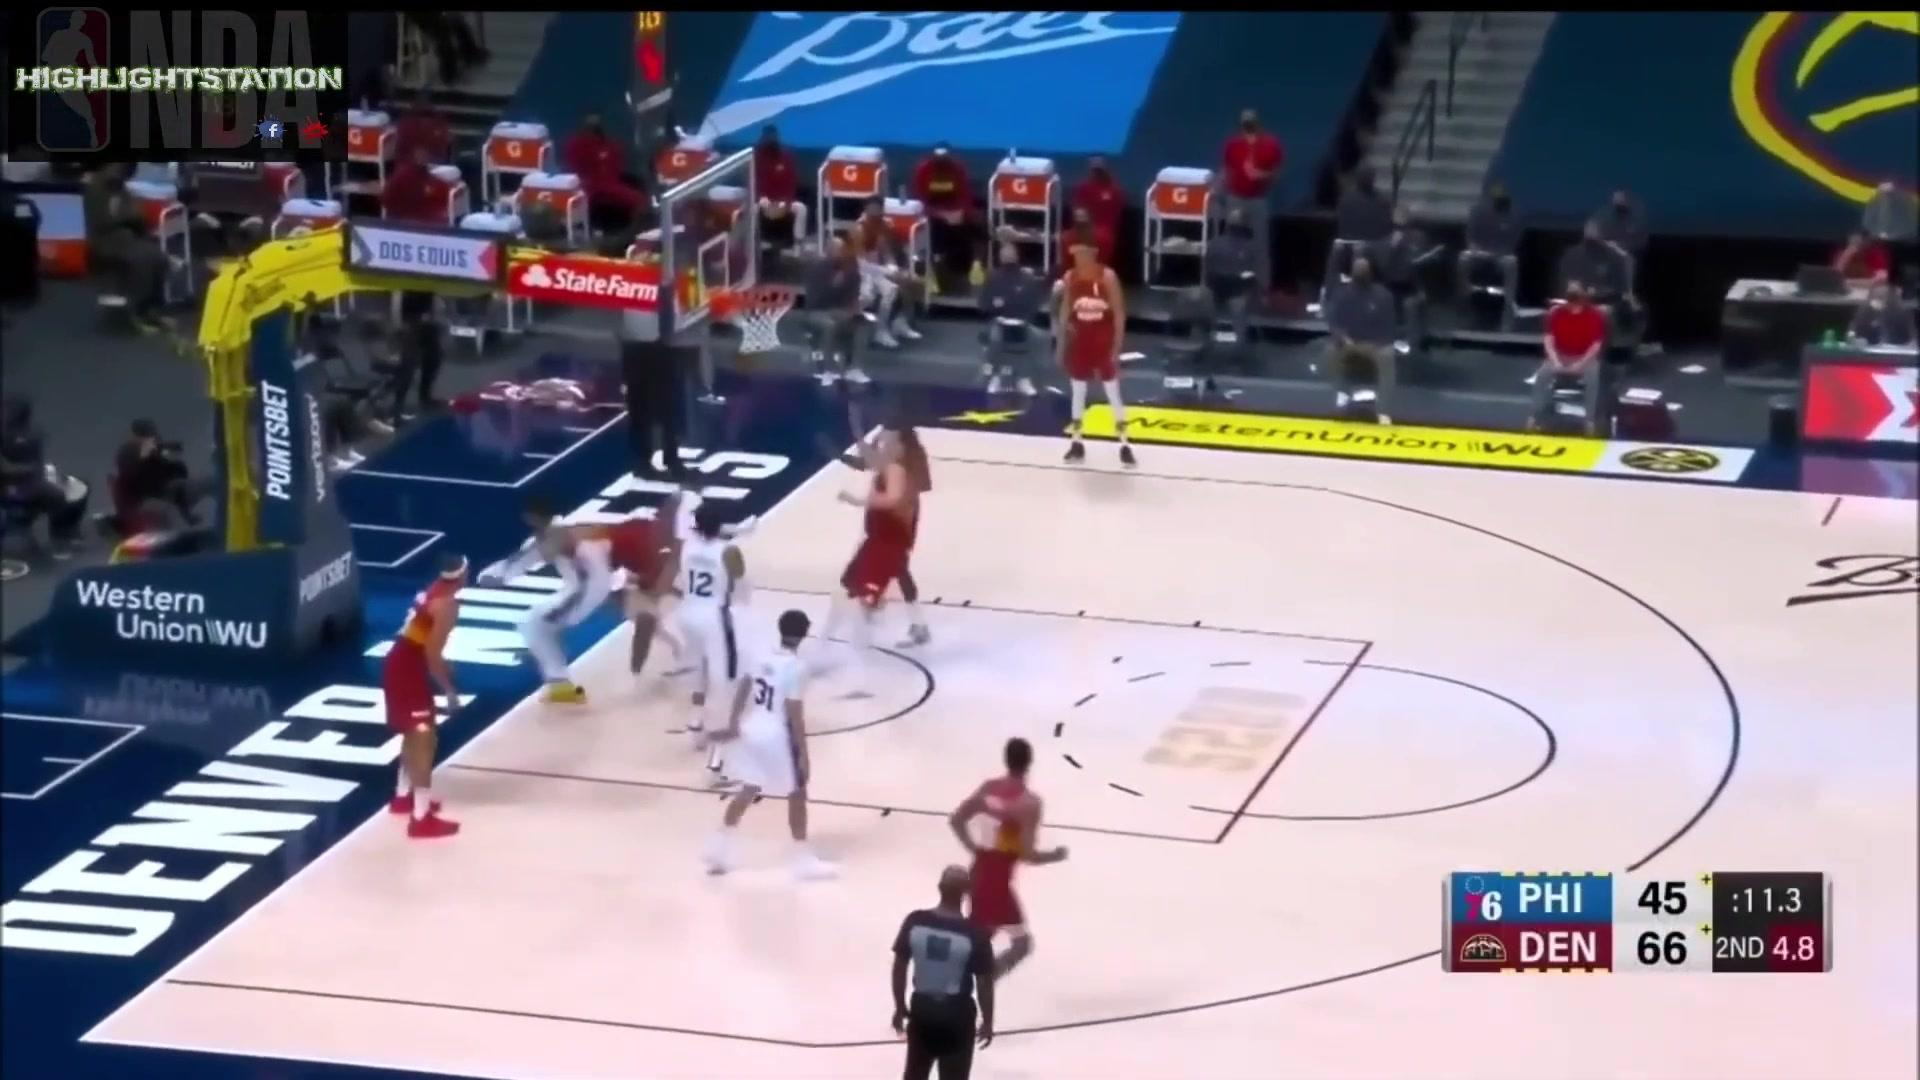no_foul: (818, 373, 975, 691)
